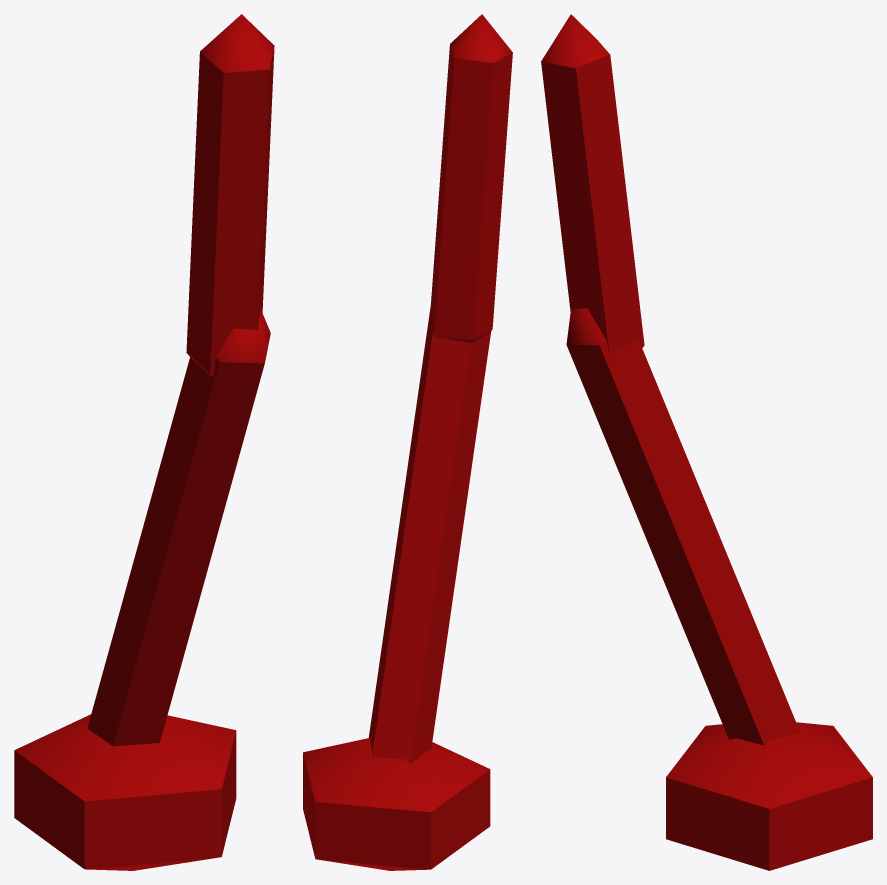
File: SM_Env_Tree_Banana_02_Collision.glb
3 views of the same model, side by side, from view 1: azimuth 30°, elevation 25°; view 2: azimuth 150°, elevation 25°; view 3: azimuth 270°, elevation 25° (orthographic). The views are drawn at different scales.
Visible parts, largest first — view 1: SM_Env_Tree_Banana_02_Collision; view 2: SM_Env_Tree_Banana_02_Collision; view 3: SM_Env_Tree_Banana_02_Collision.
Boxes of the visible parts, x1=… form: SM_Env_Tree_Banana_02_Collision: x1=14, y1=14, x2=274, y2=870; SM_Env_Tree_Banana_02_Collision: x1=303, y1=14, x2=512, y2=870; SM_Env_Tree_Banana_02_Collision: x1=541, y1=14, x2=872, y2=870.
Bounding box in the file's own units: 0.8563 × 4.1 × 1.44.
